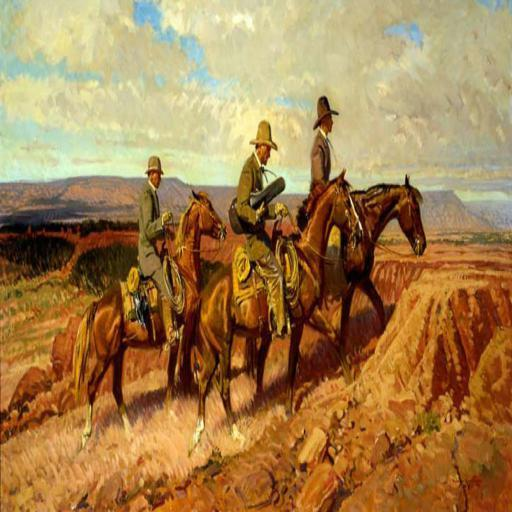horse: (178, 168, 364, 461), (69, 183, 228, 454), (244, 170, 428, 404)
